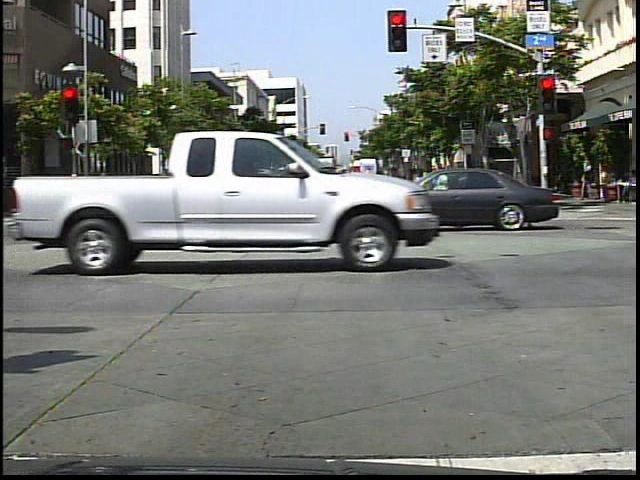person: (383, 163, 415, 232), (430, 160, 461, 224), (166, 166, 198, 225), (581, 156, 600, 205)
